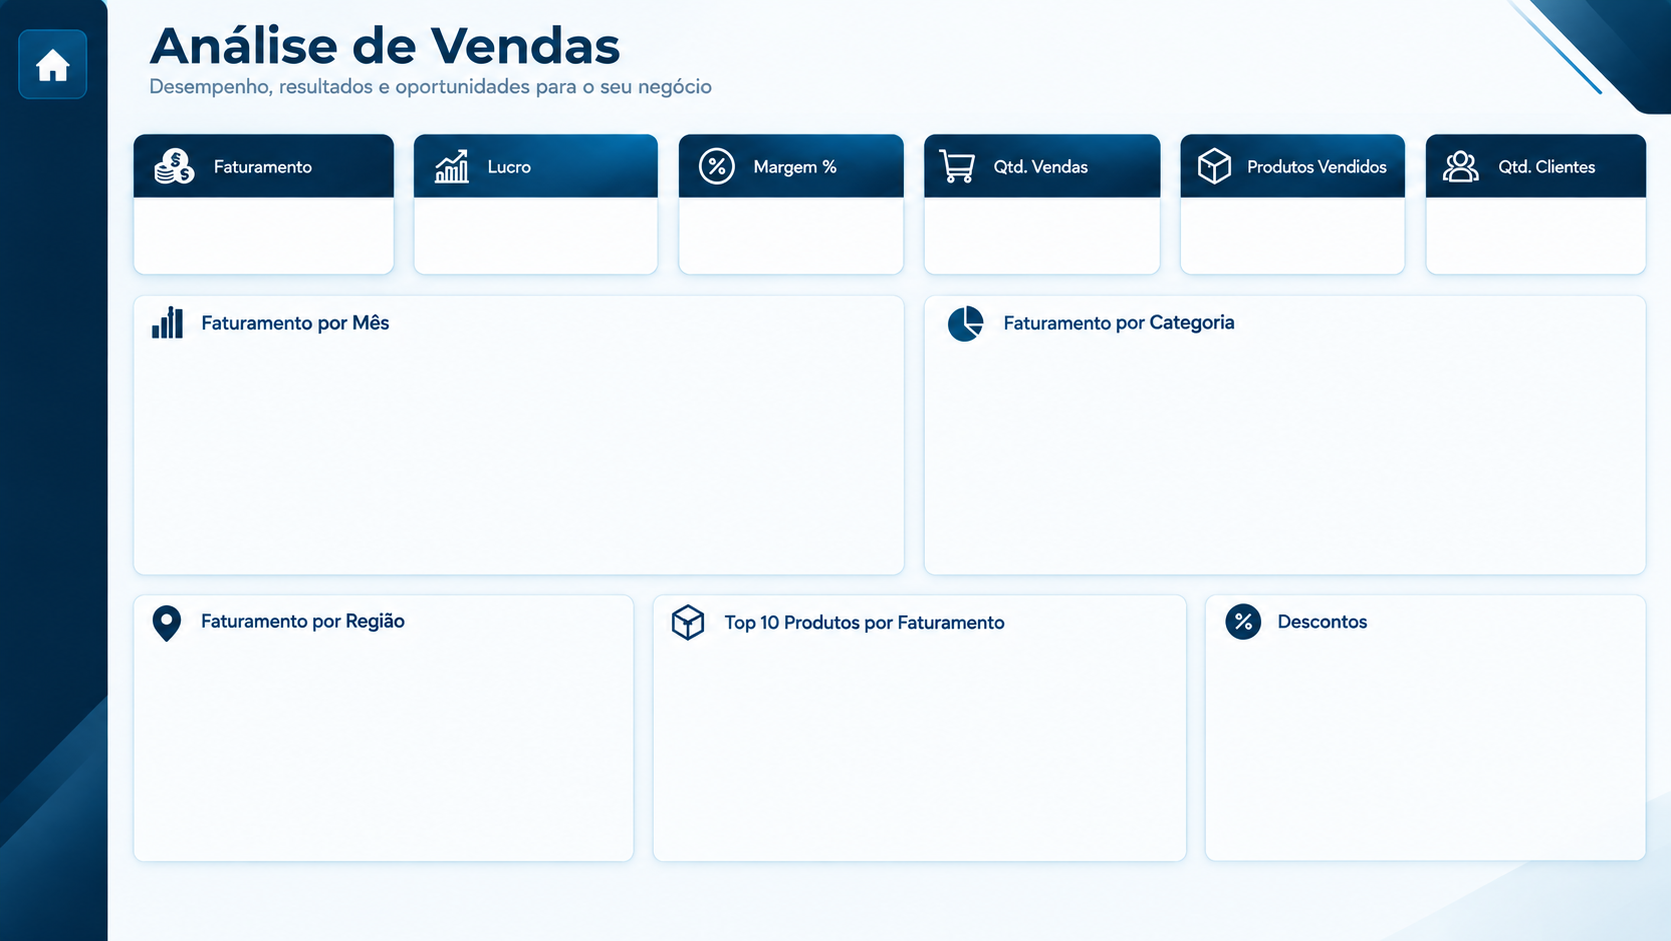

The page's visual inventory and layout, read from the dashboard file:
{"tool":"powerbi","page":{"name":"Faturamento","canvas":[1920,1080],"ordinal":0},"visuals":[{"type":"cardVisual","fields":{"Data":["Medidas.Faturamento"]},"box":[288,270,204,64],"z":0},{"type":"cardVisual","fields":{"Data":["Medidas.Lucro"]},"box":[550,270,208,64],"z":1000},{"type":"cardVisual","fields":{"Data":["Medidas.Margem %"]},"box":[856,270,126,64],"z":2000},{"type":"cardVisual","fields":{"Data":["Medidas.Qtd.vendas"]},"box":[1130,270,79,64],"z":3000},{"type":"cardVisual","fields":{"Data":["Medidas.Qtd.produtos"]},"box":[1375,270,95,64],"z":4000},{"type":"cardVisual","fields":{"Data":["Medidas.Qtd.clientes"]},"box":[1631,270,66,64],"z":5000},{"type":"lineClusteredColumnComboChart","fields":{"Category":["Data.Data.Variation.Hierarquia de datas.Ano","Data.Data.Variation.Hierarquia de datas.Trimestre","Data.Data.Variation.Hierarquia de datas.Mês","Data.Data.Variation.Hierarquia de datas.Dia"],"Y":["Medidas.Lucro"],"Y2":["Medidas.Faturamento"]},"box":[247.1,424.3,781.4,207.1],"z":6000},{"type":"slicer","title":"Dia da Semana","fields":{"Values":["Data.Nome do Dia"]},"box":[937,129,221.2,67.5],"z":7000},{"type":"slicer","title":"Categoria","fields":{"Values":["Venda.Categoria"]},"box":[1202,129,221.2,67.5],"z":8000},{"type":"slicer","title":"Período","fields":{"Values":["Venda.Data"]},"box":[1470,129,221.2,67.5],"z":9000},{"type":"ribbonChart","fields":{"Category":["Venda.Categoria"],"Y":["Medidas.Faturamento"]},"box":[1047.2,423.6,688.9,206.9],"z":10000},{"type":"pieChart","fields":{"Category":["Venda.Regiao"],"Y":["Medidas.Faturamento"]},"box":[280.6,709.7,455.6,206.9],"z":11000},{"type":"clusteredBarChart","fields":{"Category":["Venda.Produto"],"Y":["Medidas.Faturamento"]},"box":[790,710,514,208],"z":12000},{"type":"cardVisual","title":"Total ","fields":{"Data":["Medidas.Desconto total"]},"box":[1349,749,177,64],"z":13000},{"type":"cardVisual","title":"Vendas com desconto","fields":{"Data":["Medidas.Vendas com desconto"]},"box":[1559,749,177,64],"z":14000},{"type":"cardVisual","title":"Desconto %","fields":{"Data":["Medidas.Desconto efetivo %"]},"box":[1349,836,177,64],"z":15000},{"type":"cardVisual","title":"Total ","fields":{"Data":["Medidas.% vendas com desconto"]},"box":[1559,836,177,64],"z":16000}]}

Visuals, with their boxes in screenshot pixels (x1, y1, x2, y2), scaled from the page's 1920x1080 canvas onto the 1671x941 screenshot:
cardVisual - Medidas.Faturamento: 251:235:428:291
cardVisual - Medidas.Lucro: 479:235:660:291
cardVisual - Medidas.Margem %: 745:235:855:291
cardVisual - Medidas.Qtd.vendas: 983:235:1052:291
cardVisual - Medidas.Qtd.produtos: 1197:235:1279:291
cardVisual - Medidas.Qtd.clientes: 1419:235:1477:291
lineClusteredColumnComboChart - Data.Data.Variation.Hierarquia de datas.Ano x Data.Data.Variation.Hierarquia de datas.Trimestre: 215:370:895:550
"Dia da Semana" slicer: 815:112:1008:171
"Categoria" slicer: 1046:112:1239:171
"Período" slicer: 1279:112:1472:171
ribbonChart - Venda.Categoria x Medidas.Faturamento: 911:369:1511:549
pieChart - Venda.Regiao x Medidas.Faturamento: 244:618:641:799
clusteredBarChart - Venda.Produto x Medidas.Faturamento: 688:619:1135:800
"Total " cardVisual: 1174:653:1328:708
"Vendas com desconto" cardVisual: 1357:653:1511:708
"Desconto %" cardVisual: 1174:728:1328:784
"Total " cardVisual: 1357:728:1511:784
